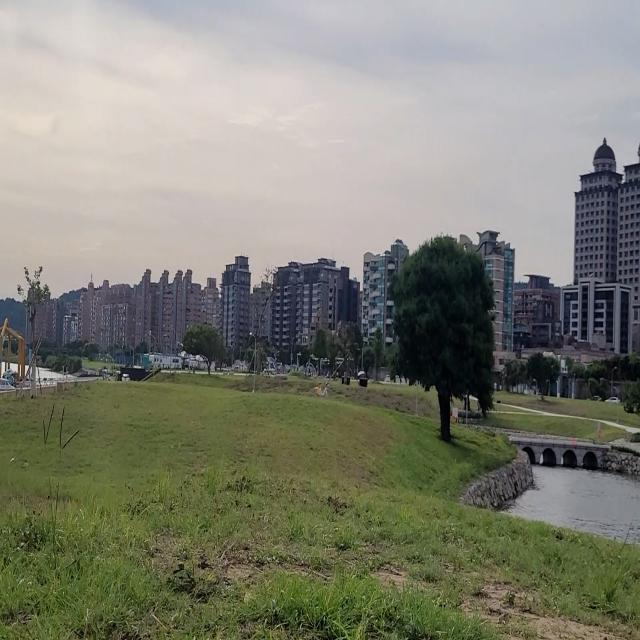grass: (0, 380, 640, 639)
